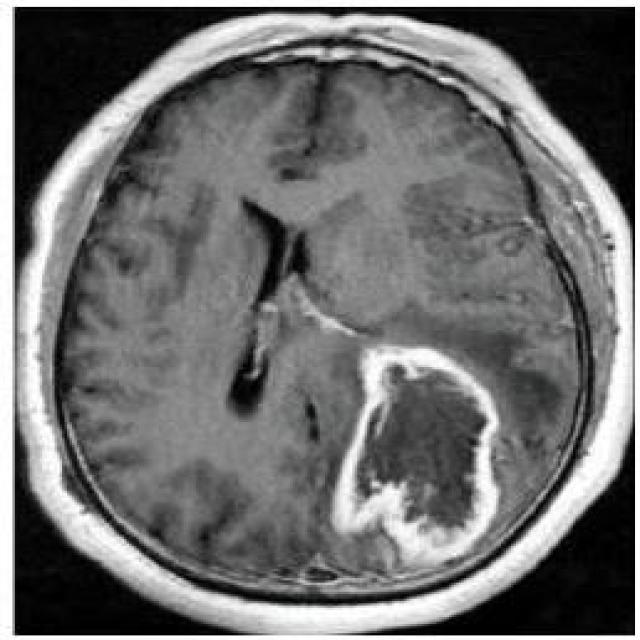brain tumor: (330, 351, 499, 571)
